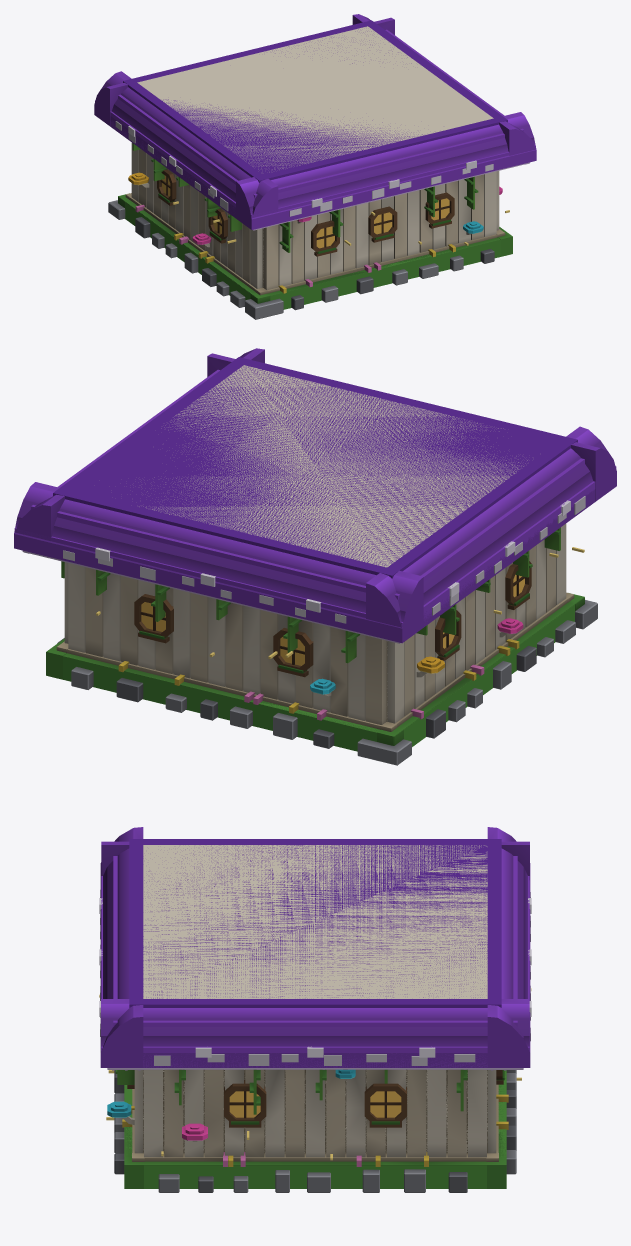
File: MagicMushroomFloor.fbx
3 renders of one model, top to bottom at view 1: azimuth 30°, elevation 25°; view 2: azimuth 150°, elevation 25°; view 3: azimuth 270°, elevation 25°, orthographic. The views are drawn at different scales.
Visible parts, largest first — view 1: MM_S_All, MM_F_Rings, MM_F_Smooth, MM_F_Quiet, MM_F_Glass; view 2: MM_S_All, MM_F_Rings, MM_F_Smooth, MM_F_Quiet, MM_F_Glass, MM_F_Props; view 3: MM_S_All, MM_F_Rings, MM_F_Smooth, MM_F_Quiet, MM_F_Glass.
Boxes of the visible parts, x1=… form: MM_S_All: x1=95, y1=20, x2=535, y2=309; MM_F_Rings: x1=94, y1=14, x2=536, y2=319; MM_F_Smooth: x1=109, y1=121, x2=529, y2=319; MM_F_Quiet: x1=118, y1=193, x2=512, y2=303; MM_F_Glass: x1=131, y1=175, x2=509, y2=248; MM_S_All: x1=14, y1=357, x2=616, y2=751; MM_F_Rings: x1=14, y1=348, x2=616, y2=765; MM_F_Smooth: x1=23, y1=496, x2=597, y2=765; MM_F_Quiet: x1=46, y1=593, x2=584, y2=745; MM_F_Glass: x1=96, y1=547, x2=584, y2=694; MM_F_Props: x1=310, y1=618, x2=522, y2=695; MM_S_All: x1=99, y1=839, x2=531, y2=1188; MM_F_Rings: x1=100, y1=827, x2=530, y2=1192; MM_F_Smooth: x1=100, y1=889, x2=530, y2=1192; MM_F_Quiet: x1=124, y1=1070, x2=506, y2=1188; MM_F_Glass: x1=99, y1=988, x2=531, y2=1160.
Bounding box in the file's own units: 60 × 20 × 60.
